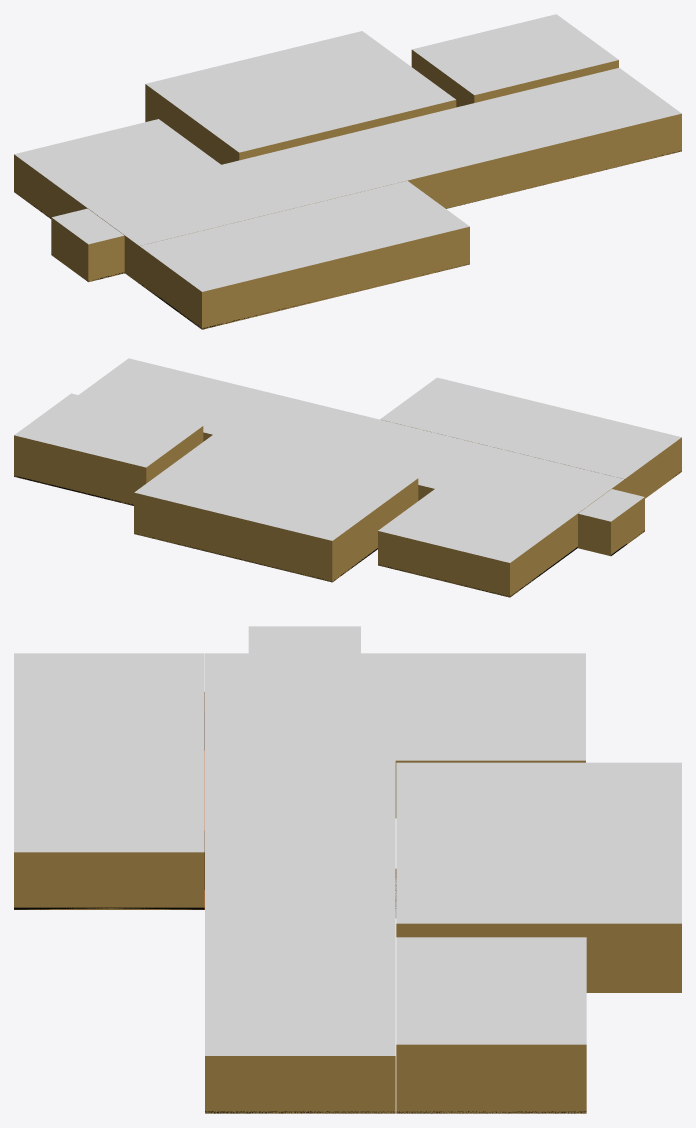
Rendered from rooms 1.fbx.
3 views of the same model, one above another, from view 1: azimuth 30°, elevation 25°; view 2: azimuth 150°, elevation 25°; view 3: azimuth 270°, elevation 25° (orthographic). The views are drawn at different scales.
Visible parts, largest first — view 1: Ceiling.001, Ceiling.002, Ceiling.004, kitchen, Hall, Ceiling.003, Boss_Room, Start, Sport_Room, Ceiling; view 2: Ceiling.001, Ceiling.002, Ceiling.004, Boss_Room, Ceiling.003, Hall, Sport_Room, Start, kitchen, Ceiling; view 3: Ceiling.001, Ceiling.002, Ceiling.004, Ceiling.003, Sport_Room, Hall, kitchen, Boss_Room, Ceiling.
Boxes of the visible parts, box(x1,y1,x2,y2) form: Ceiling.001: box(14, 68, 681, 245); Ceiling.002: box(146, 31, 455, 152); Ceiling.004: box(140, 180, 469, 291); kitchen: box(139, 226, 469, 329); Hall: box(14, 113, 681, 282); Ceiling.003: box(412, 14, 618, 95); Boss_Room: box(145, 84, 456, 164); Start: box(51, 217, 124, 282); Sport_Room: box(411, 50, 618, 107); Ceiling: box(52, 208, 123, 244); Ceiling.001: box(78, 358, 623, 562); Ceiling.002: box(134, 430, 417, 540); Ceiling.004: box(380, 377, 681, 478); Boss_Room: box(134, 478, 418, 582); Ceiling.003: box(14, 393, 202, 467); Hall: box(203, 432, 624, 597); Sport_Room: box(14, 426, 203, 505); Start: box(578, 497, 644, 556); kitchen: box(381, 419, 681, 498); Ceiling: box(578, 489, 644, 521); Ceiling.001: box(205, 653, 585, 1055); Ceiling.002: box(396, 762, 681, 923); Ceiling.004: box(14, 653, 204, 852); Ceiling.003: box(396, 937, 586, 1044); Sport_Room: box(396, 1044, 586, 1113); Hall: box(205, 760, 585, 1113); kitchen: box(14, 852, 204, 909); Boss_Room: box(396, 923, 681, 992); Ceiling: box(248, 626, 360, 653).
Bounding box in the file's own units: 4323 × 333 × 2840.
